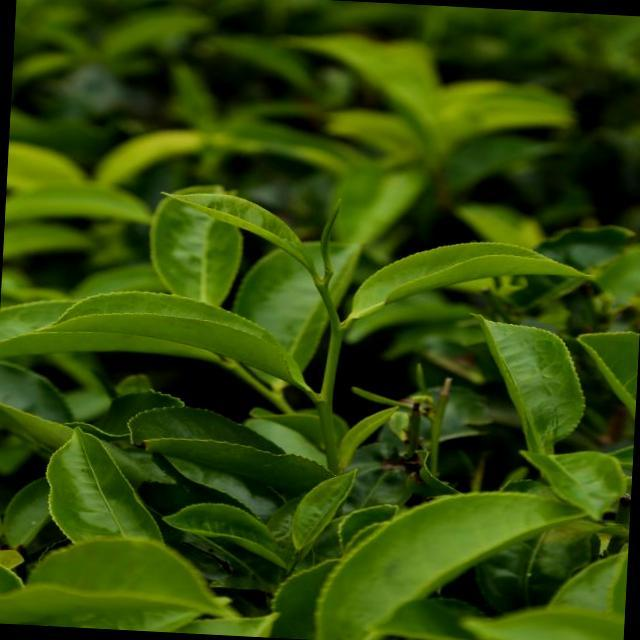Stem: (318, 285, 330, 296)
